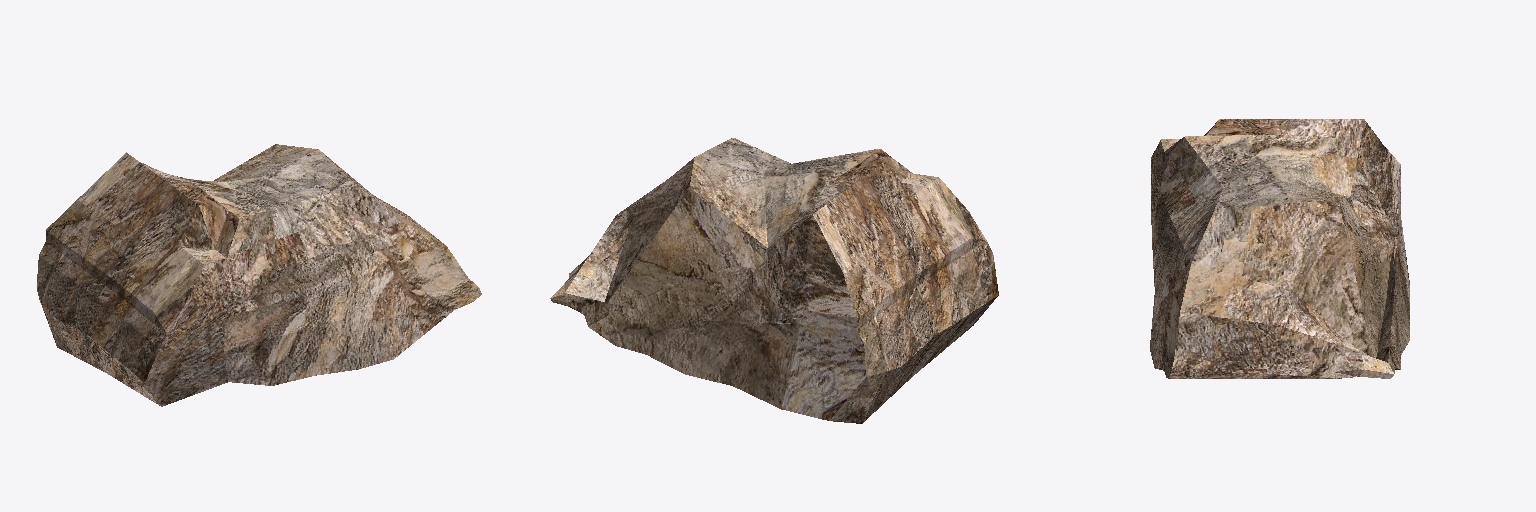
3 renders of one model, left to right at view 1: azimuth 30°, elevation 25°; view 2: azimuth 150°, elevation 25°; view 3: azimuth 270°, elevation 25°, orthographic.
Parts seen in each view (by area): view 1: Cube.001; view 2: Cube.001; view 3: Cube.001.
Part boxes in pixels (bbox=[...]): Cube.001: bbox=[37, 144, 481, 406]; Cube.001: bbox=[550, 138, 998, 423]; Cube.001: bbox=[1150, 119, 1409, 378].
Size of the model in its own units: 4.08 by 2.14 by 2.69.
1 materials, 1 textured.